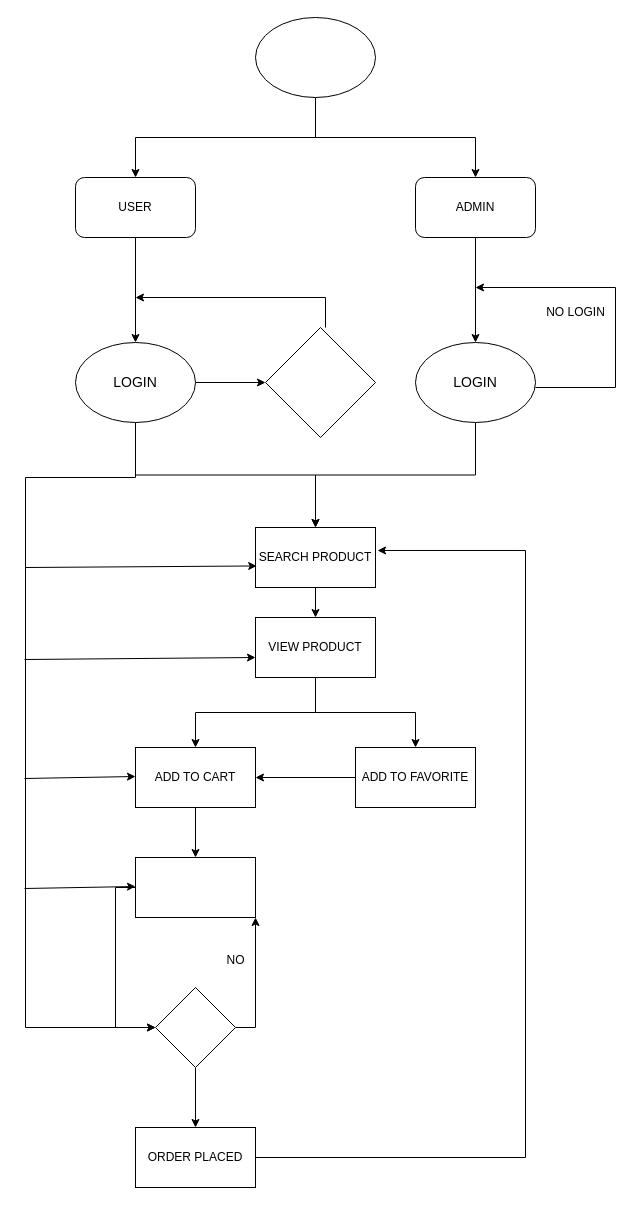
This 641x1205 diagram has some shape labels left out. The shapes that lost their labels are listed below. From the top down, each one's centre as x and y in pixels, then its label:
At pixel 315 57: "LANDING PAGE".
At pixel 320 382: "REGISTER".
At pixel 195 887: "MANAGE CART".
At pixel 195 1027: "MANAGE PAYMENT".
